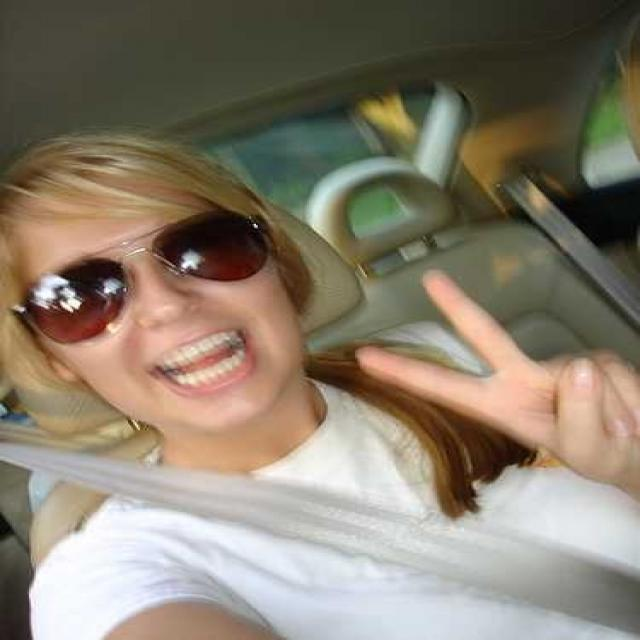seatbelt: (46, 425, 562, 598)
